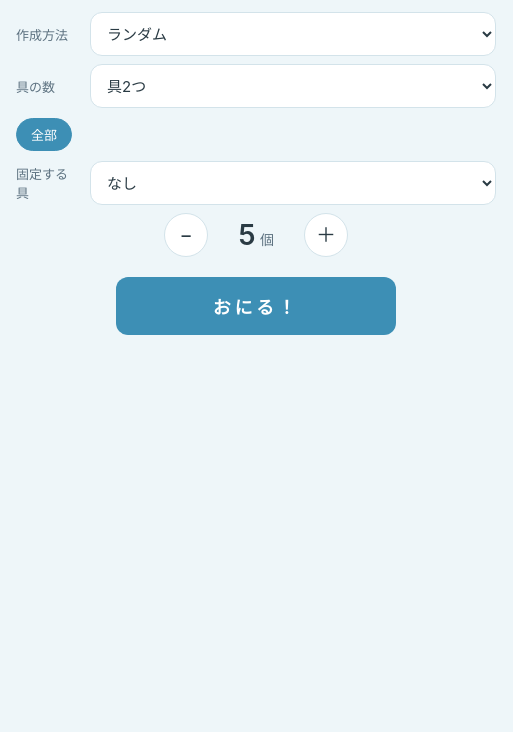
it: LotteryScreen › モード切替 › 2具モードで抽選すると2つの具が「×」区切りで表示され recordDraw も2具で呼ばれる
The image size is (513, 732).
Click the button "おにる！".
click(256, 306)  # box [116,277,396,335]
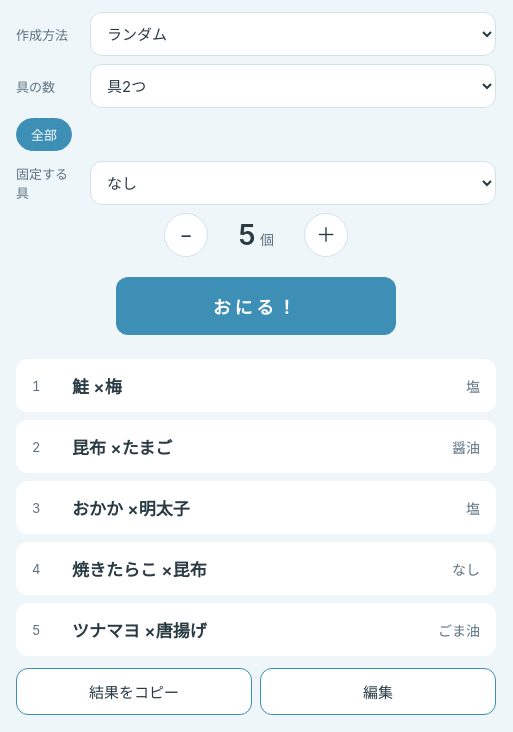
Now the number of list items is 5, box [16,359,496,412]; [16,420,496,473]; [16,481,496,534]; [16,542,496,595]; [16,603,496,656]
Now the list item "1 鮭 ×梅 塩" is shown, box [16,359,496,412]
